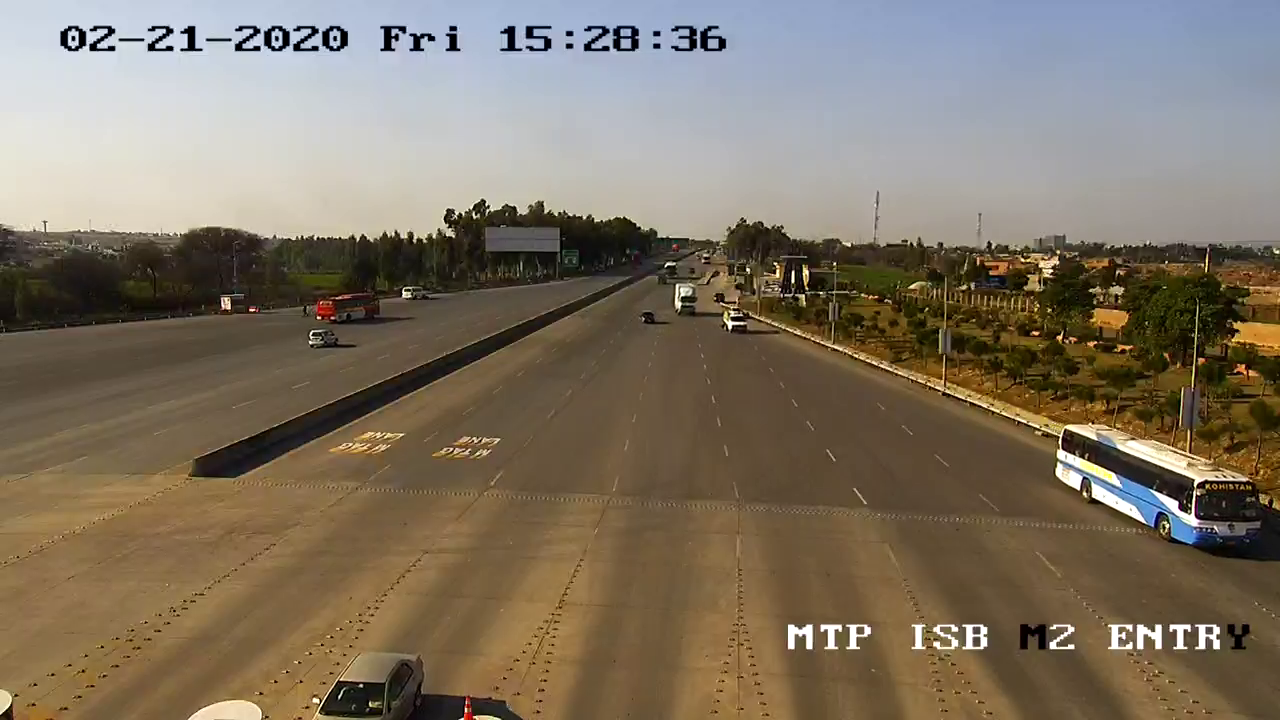f4: (1050, 416, 1269, 557)
